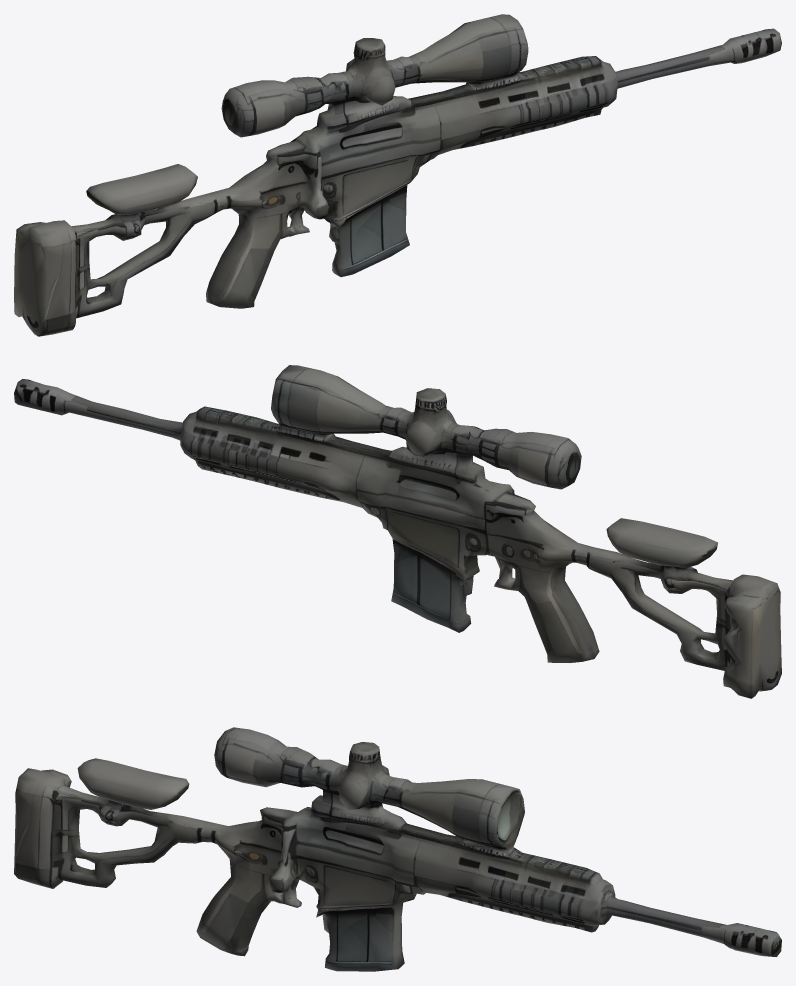
The model's file is sniperrifle_v2.glb.
3 views of the same model, one above another, from view 1: azimuth 30°, elevation 25°; view 2: azimuth 150°, elevation 25°; view 3: azimuth 330°, elevation 25° (orthographic).
Parts seen in each view (by area): view 1: SniperRifle; view 2: SniperRifle; view 3: SniperRifle.
Part boxes in pixels (x1,y1,x2,y2): SniperRifle: (14,14,781,336); SniperRifle: (14,365,781,698); SniperRifle: (14,727,781,971).
Bounding box in the file's own units: 1.05 × 0.315 × 0.0995.
1 material, 1 textured.
